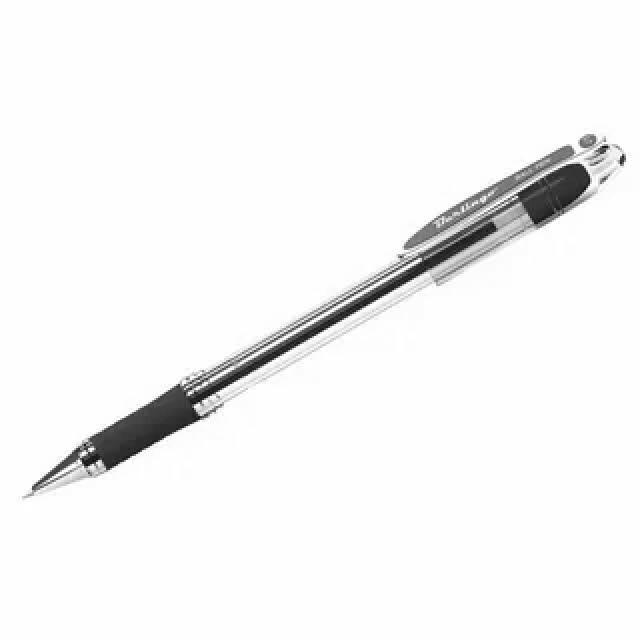pencil: (23, 141, 626, 522)
